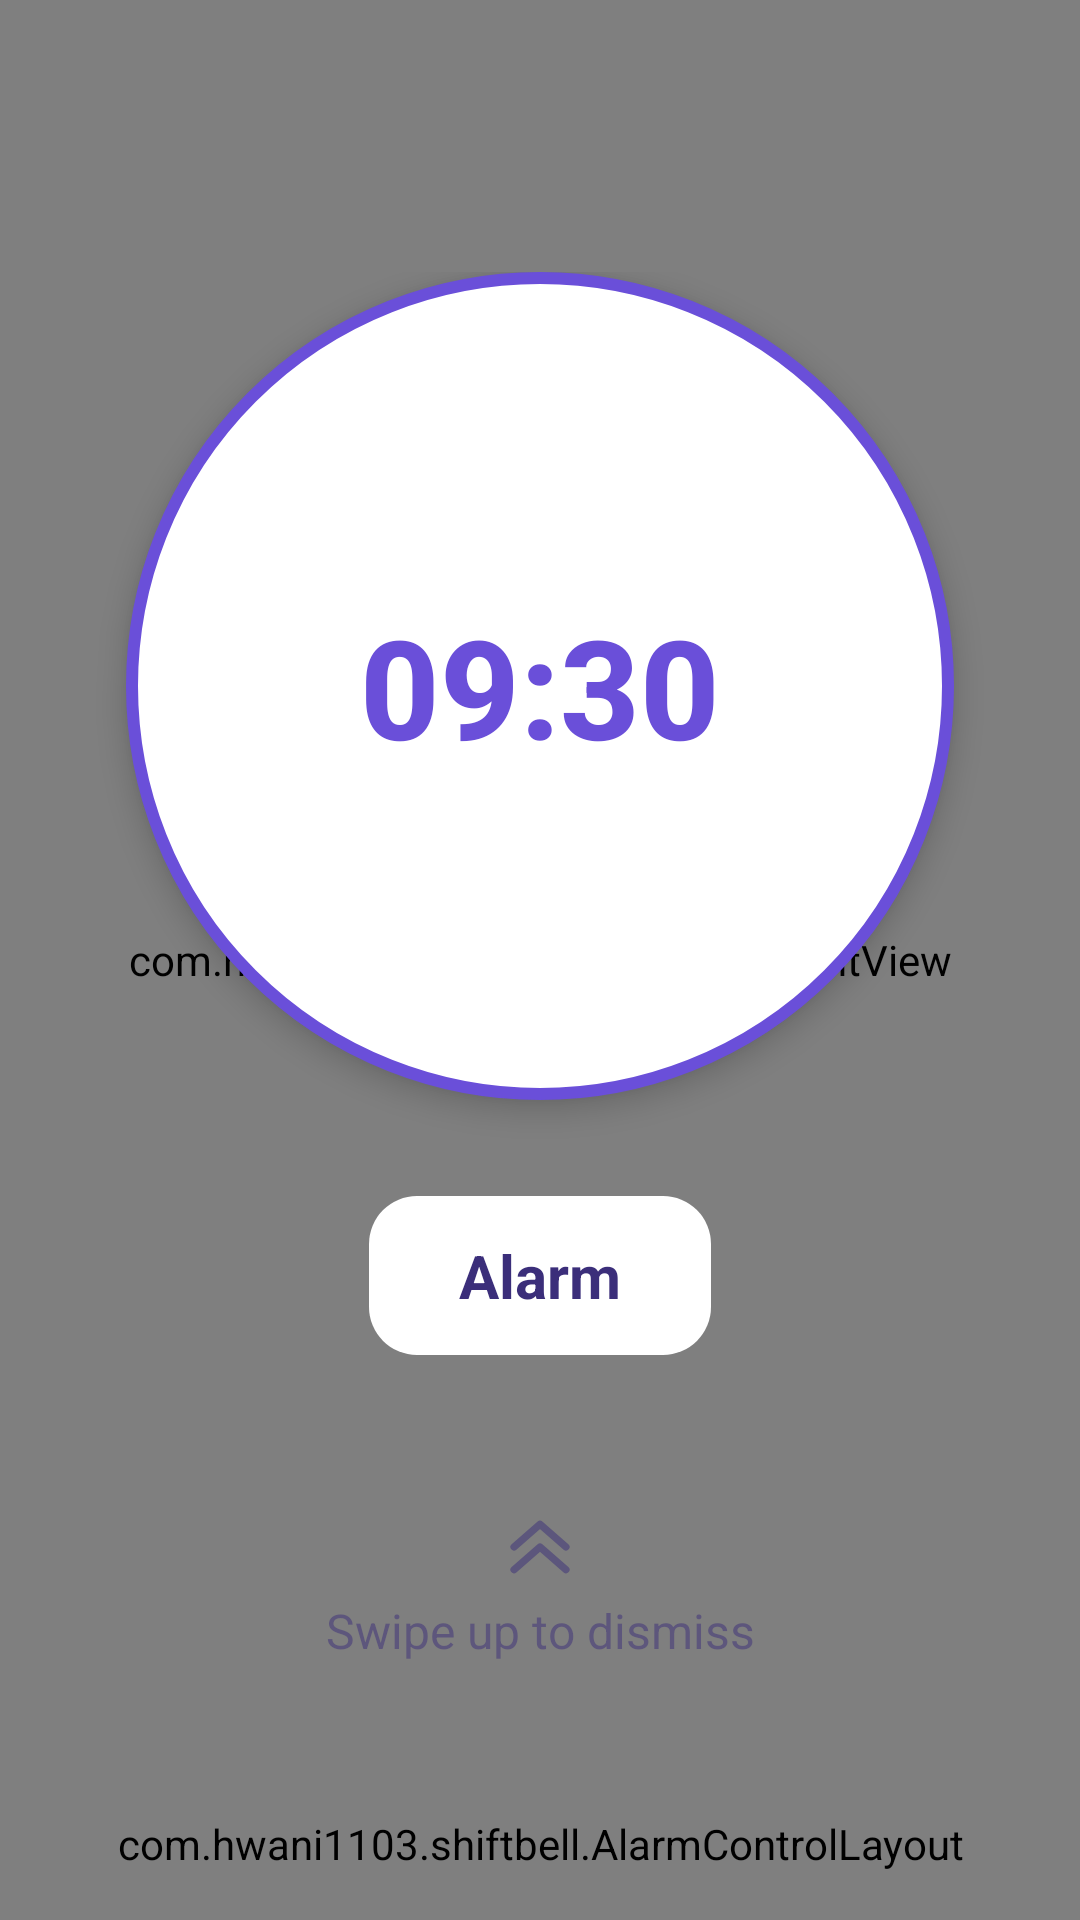

Icons on this 1080×1920 Android screen, each with the point to tap as (x,y):
double arrow up: (540,1547)
